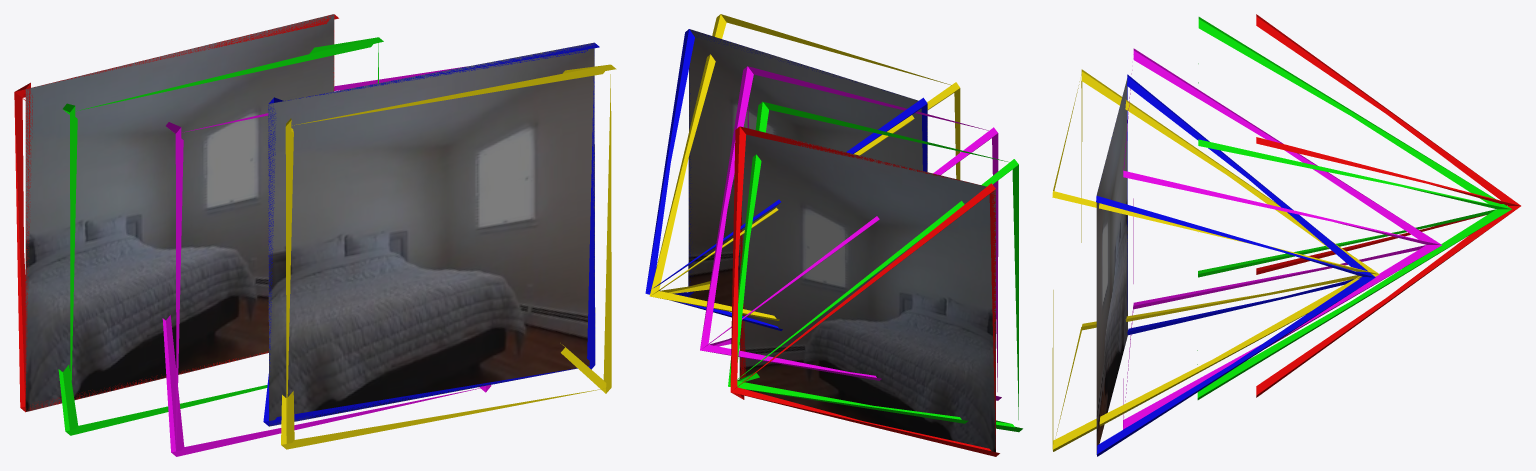
3 views of the same model, side by side, from view 1: azimuth 30°, elevation 25°; view 2: azimuth 150°, elevation 25°; view 3: azimuth 270°, elevation 25° (orthographic). The views are drawn at different scales.
Parts seen in each view (by area): view 1: geometry_3, geometry_1, geometry_7, geometry_5, geometry_4, geometry_6, geometry_2; view 2: geometry_1, geometry_3, geometry_2, geometry_5, geometry_6, geometry_7, geometry_4; view 3: geometry_5, geometry_3, geometry_7, geometry_6, geometry_4, geometry_2.
Part boxes in pixels (x1=…): geometry_3: x1=268, y1=43, x2=595, y2=426; geometry_1: x1=25, y1=14, x2=334, y2=411; geometry_7: x1=281, y1=64, x2=616, y2=449; geometry_5: x1=58, y1=37, x2=383, y2=435; geometry_4: x1=263, y1=42, x2=599, y2=426; geometry_6: x1=162, y1=66, x2=491, y2=456; geometry_2: x1=14, y1=14, x2=338, y2=412; geometry_1: x1=739, y1=129, x2=995, y2=452; geometry_3: x1=688, y1=29, x2=927, y2=306; geometry_2: x1=730, y1=126, x2=999, y2=456; geometry_5: x1=728, y1=102, x2=1022, y2=432; geometry_6: x1=700, y1=66, x2=1001, y2=400; geometry_7: x1=649, y1=14, x2=960, y2=320; geometry_4: x1=645, y1=29, x2=927, y2=330; geometry_5: x1=1197, y1=17, x2=1511, y2=399; geometry_3: x1=1096, y1=78, x2=1127, y2=453; geometry_7: x1=1052, y1=69, x2=1379, y2=451; geometry_6: x1=1123, y1=48, x2=1441, y2=429; geometry_4: x1=1096, y1=74, x2=1375, y2=456; geometry_2: x1=1256, y1=14, x2=1520, y2=397.
Bounding box in the file's own units: 0.6892 × 0.474 × 0.7282.
2 materials, 2 textured.
